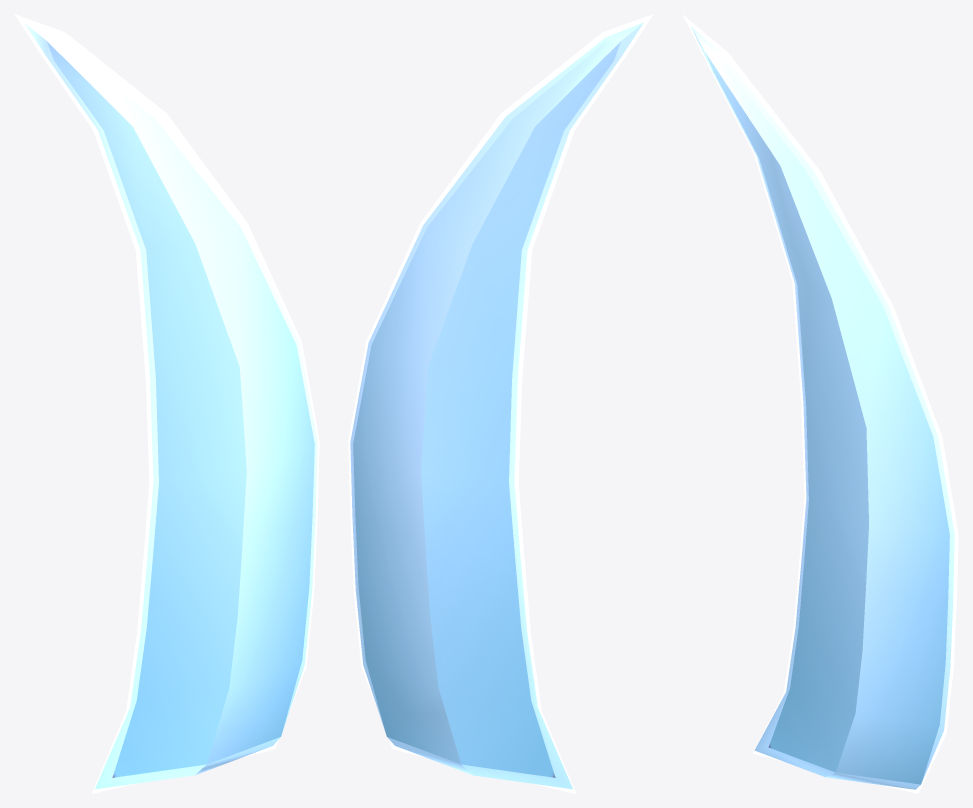
The model's file is steel_blade (10).glb.
3 views of the same model, side by side, from view 1: azimuth 30°, elevation 25°; view 2: azimuth 150°, elevation 25°; view 3: azimuth 330°, elevation 25° (orthographic). The views are drawn at different scales.
Parts seen in each view (by area): view 1: steel_blade_steel.053; view 2: steel_blade_steel.053; view 3: steel_blade_steel.053.
Boxes of the visible parts, <box> form: steel_blade_steel.053: <box>14,14,319,793</box>; steel_blade_steel.053: <box>348,14,653,793</box>; steel_blade_steel.053: <box>682,14,958,793</box>.
Size of the model in its own units: 4.91 by 12.29 by 0.7262.
1 material, 1 textured.
